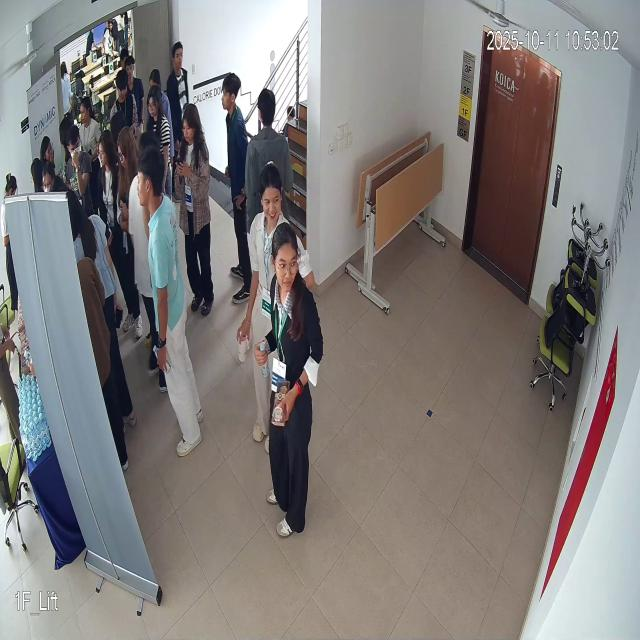face: (270, 214, 299, 298), (259, 153, 282, 229)
